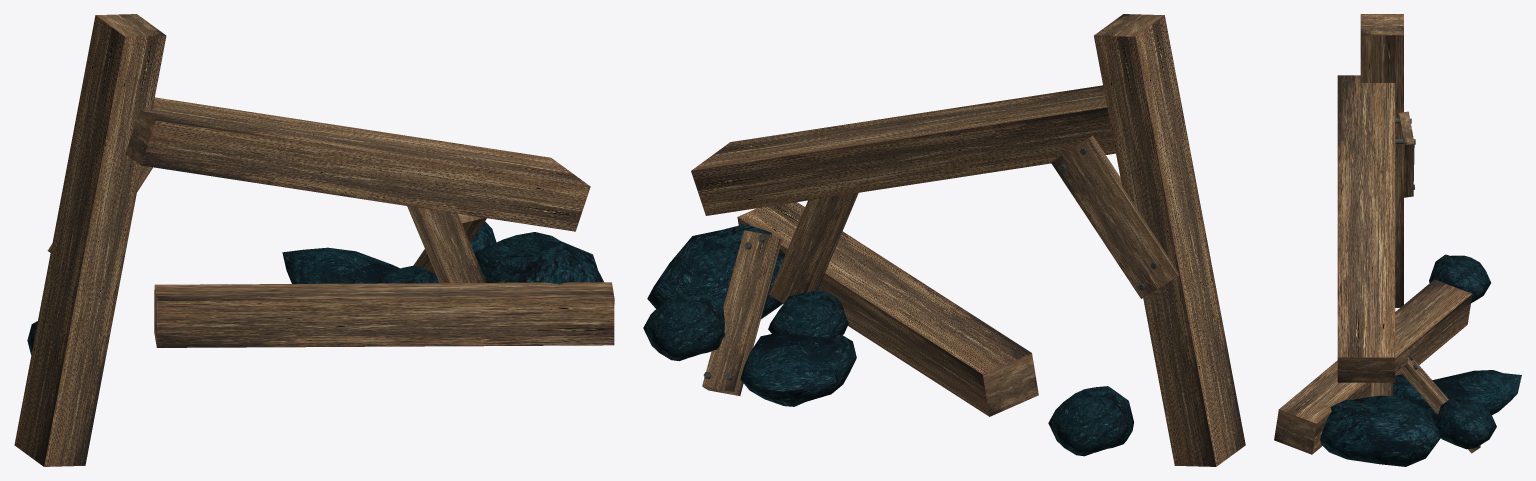
Rendered from shaft3.fbx.
3 views of the same model, side by side, from view 1: azimuth 30°, elevation 25°; view 2: azimuth 150°, elevation 25°; view 3: azimuth 270°, elevation 25° (orthographic). The views are drawn at different scales.
Visible parts, largest first — view 1: shaft, stones; view 2: shaft, stones; view 3: shaft, stones.
Part boxes in pixels (<box>): shaft: <box>14,14,614,466</box>; stones: <box>27,221,603,354</box>; shaft: <box>691,14,1245,466</box>; stones: <box>643,224,1133,456</box>; shaft: <box>1274,14,1480,454</box>; stones: <box>1320,254,1521,466</box>.
Size of the model in its own units: 1140 by 816 by 595.
Materials: 3 (3 with a texture image).
